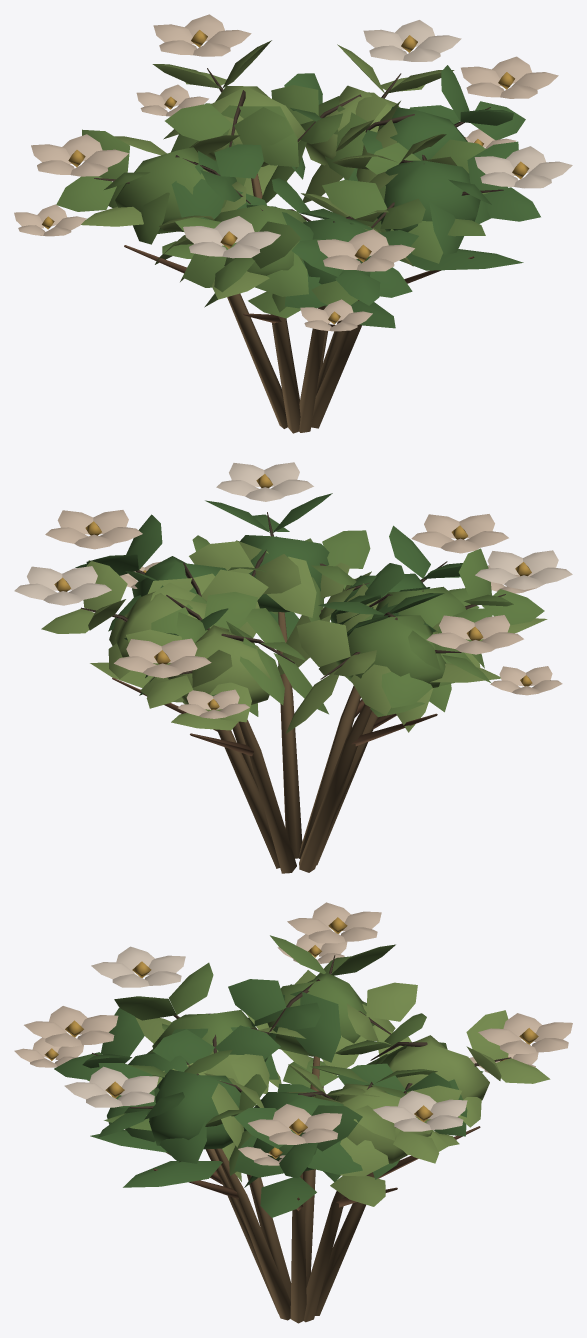
Rendered from woodland_bush_flowering.hi.glb.
3 views of the same model, one above another, from view 1: azimuth 30°, elevation 25°; view 2: azimuth 150°, elevation 25°; view 3: azimuth 270°, elevation 25° (orthographic). The views are drawn at different scales.
Parts seen in each view (by area): view 1: body; view 2: body; view 3: body.
Boxes of the visible parts, <box> form: body: <box>14,14,572,433</box>; body: <box>14,462,572,873</box>; body: <box>14,902,572,1323</box>.
Bounding box in the file's own units: 1.55 × 0.8763 × 1.47.
